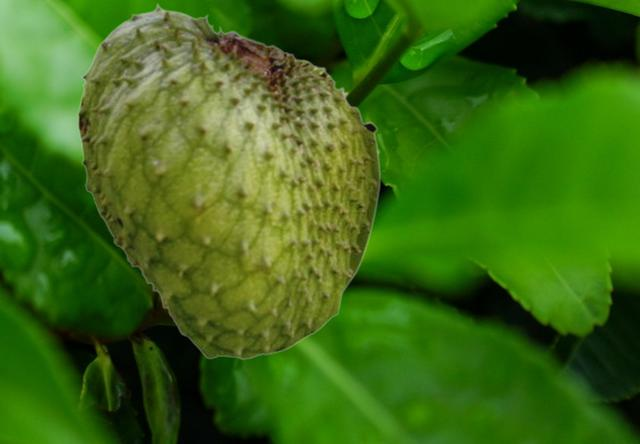guyabano: (77, 2, 380, 359)
